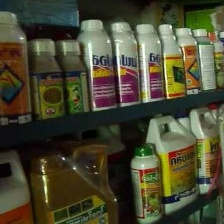insecticide: (27, 139, 122, 224), (140, 110, 200, 218), (76, 17, 121, 117), (0, 7, 33, 130), (26, 34, 70, 125), (187, 102, 224, 197), (106, 18, 141, 117), (132, 21, 168, 113), (52, 35, 90, 122), (129, 140, 166, 223), (157, 21, 186, 103), (174, 24, 205, 100), (192, 24, 218, 98), (204, 29, 223, 97)
